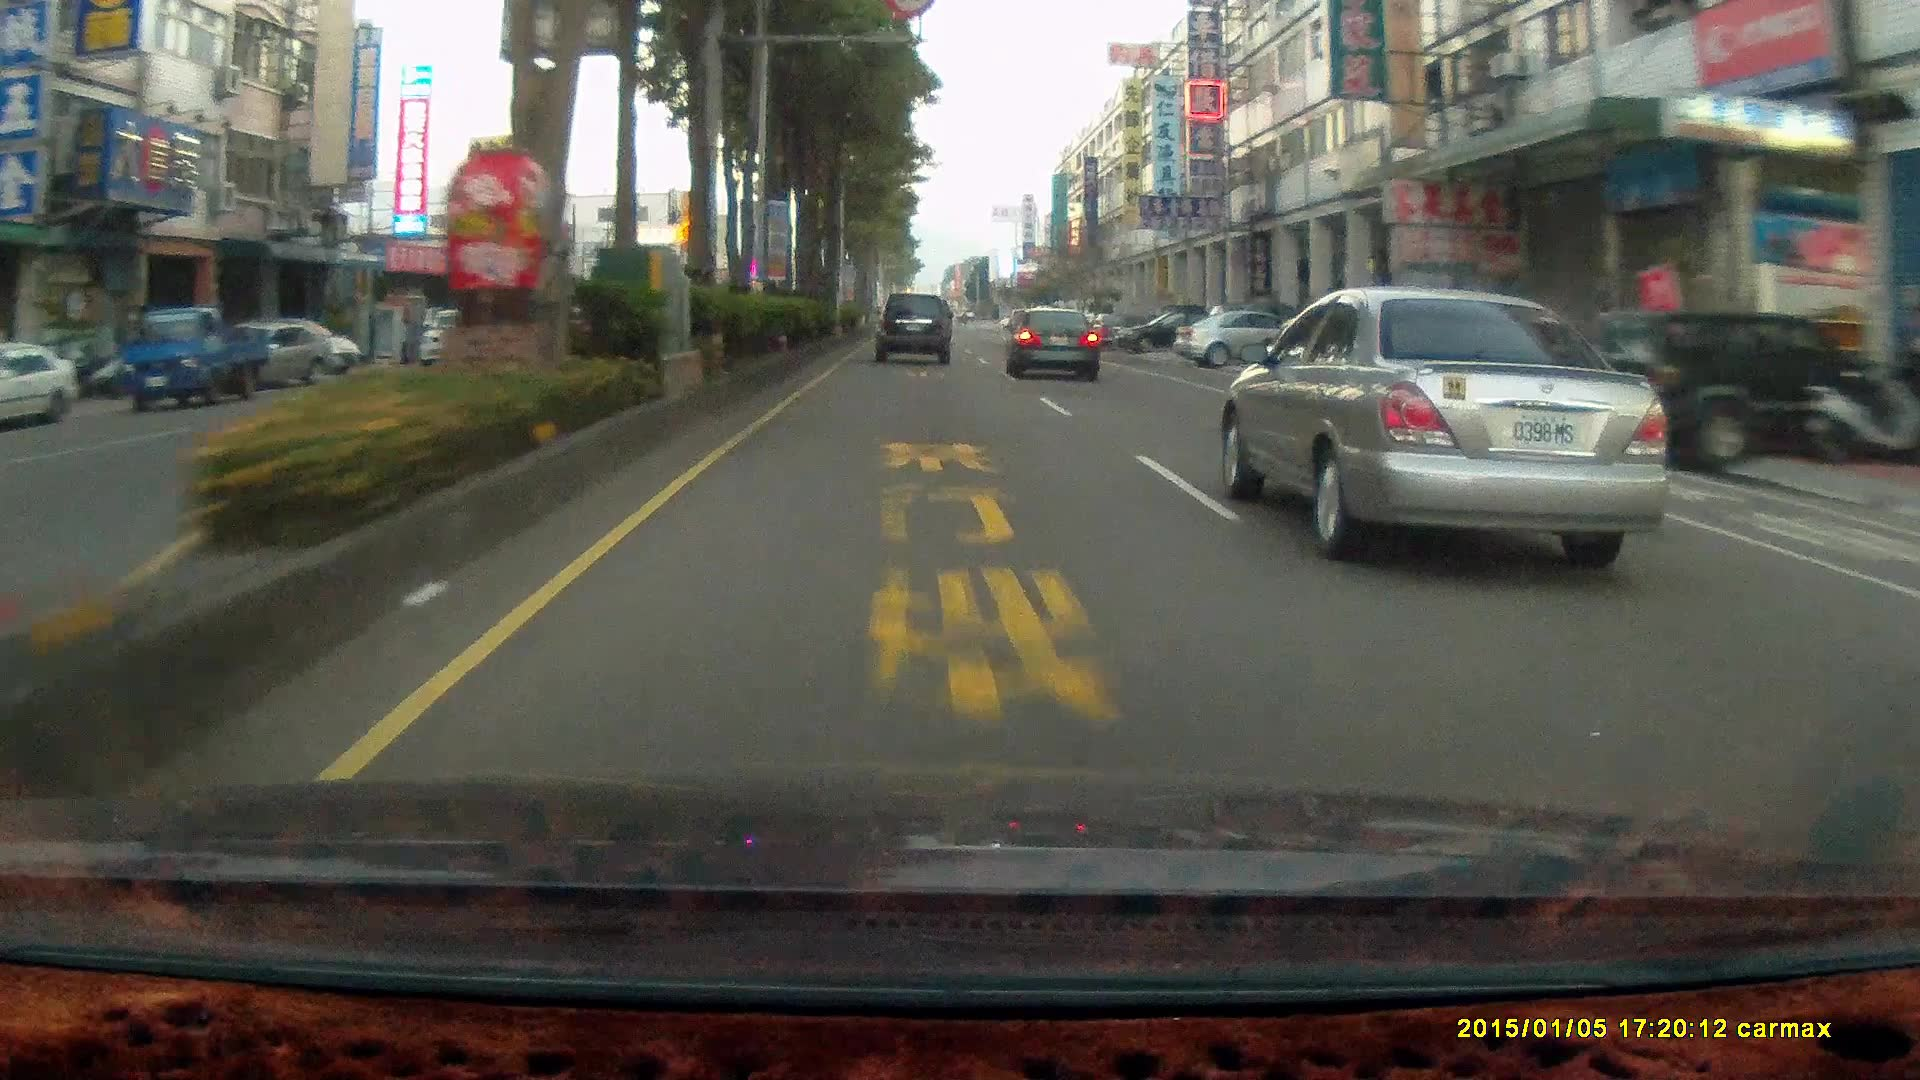vehicle: (1226, 286, 1693, 560), (1575, 305, 1875, 465), (1581, 309, 1878, 462), (113, 301, 266, 407), (120, 305, 276, 405), (1284, 313, 1422, 411), (196, 318, 334, 386), (1175, 306, 1327, 367), (1005, 303, 1102, 378), (1001, 305, 1098, 378), (0, 342, 78, 429), (873, 290, 955, 365), (872, 291, 953, 361), (1113, 306, 1225, 351), (418, 307, 498, 367)
